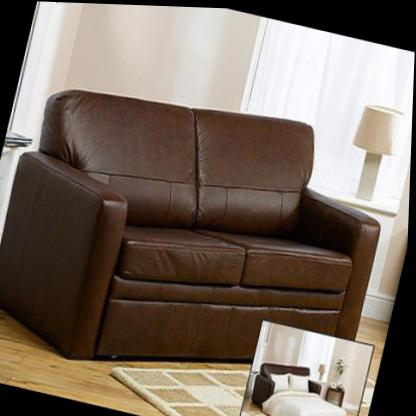Bed: (248, 355, 360, 416)
Sofa: (0, 61, 401, 416)
Wooden floor: (0, 311, 169, 416)
